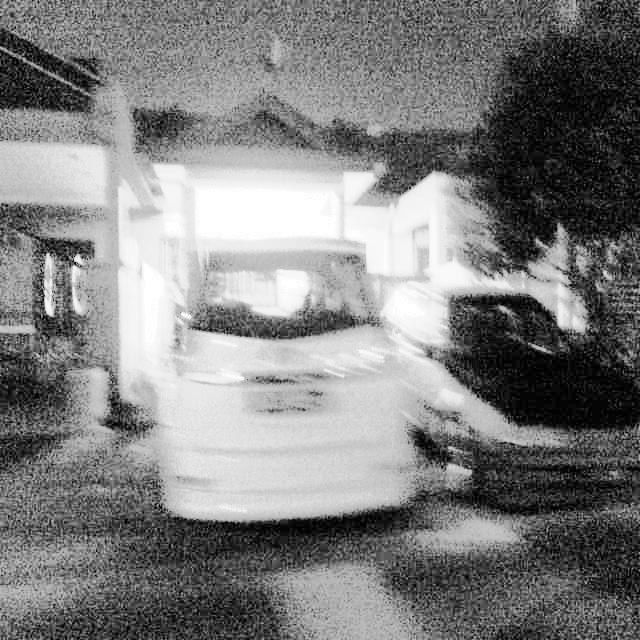Car: (159, 220, 407, 549), (390, 244, 635, 522)
